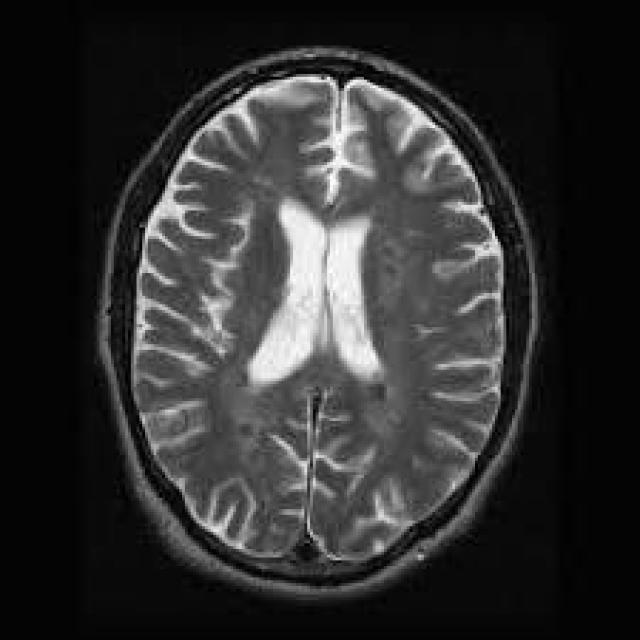notumor: (97, 48, 535, 600)
